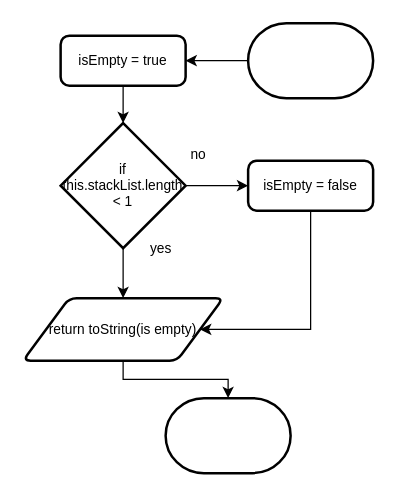
Some shapes in this 395 by 495 pixel diagram are drawn without their labels. Here are the shapes that lost their labels. From the top down, the box of each, then its label:
(246, 21, 374, 99): Start
(164, 396, 291, 474): Stop
